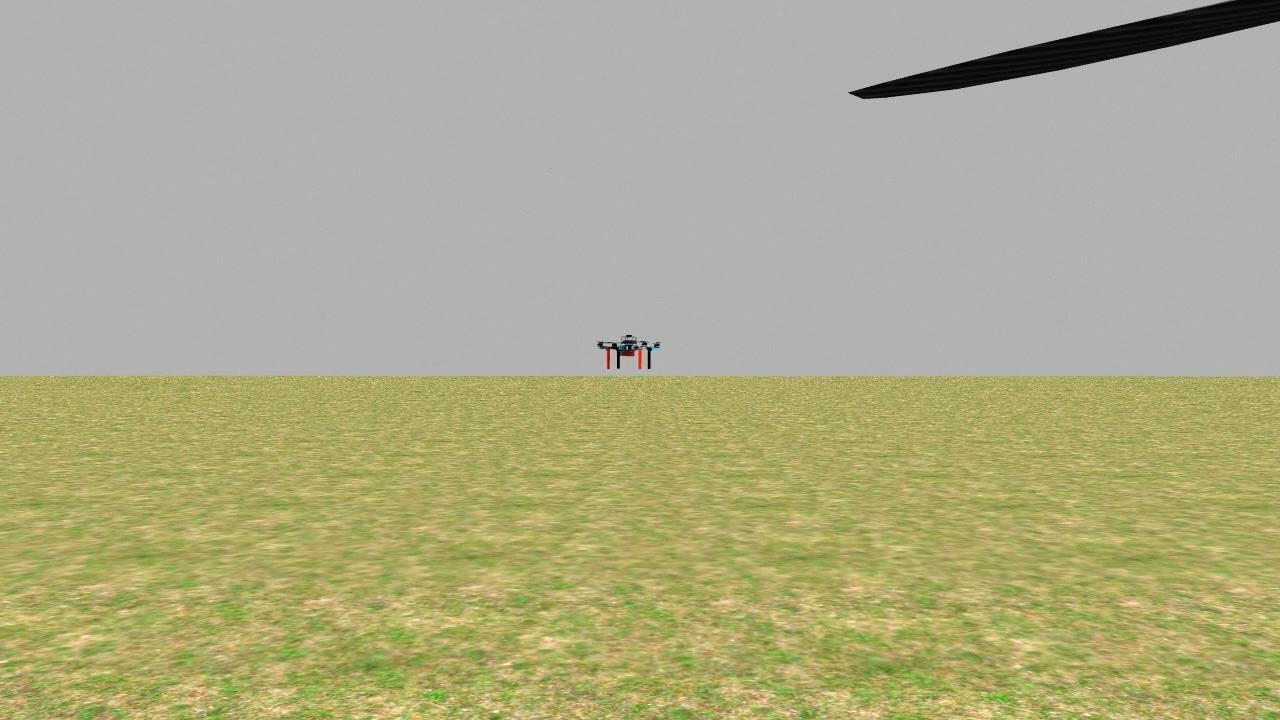UAV: (584, 326, 668, 378)
